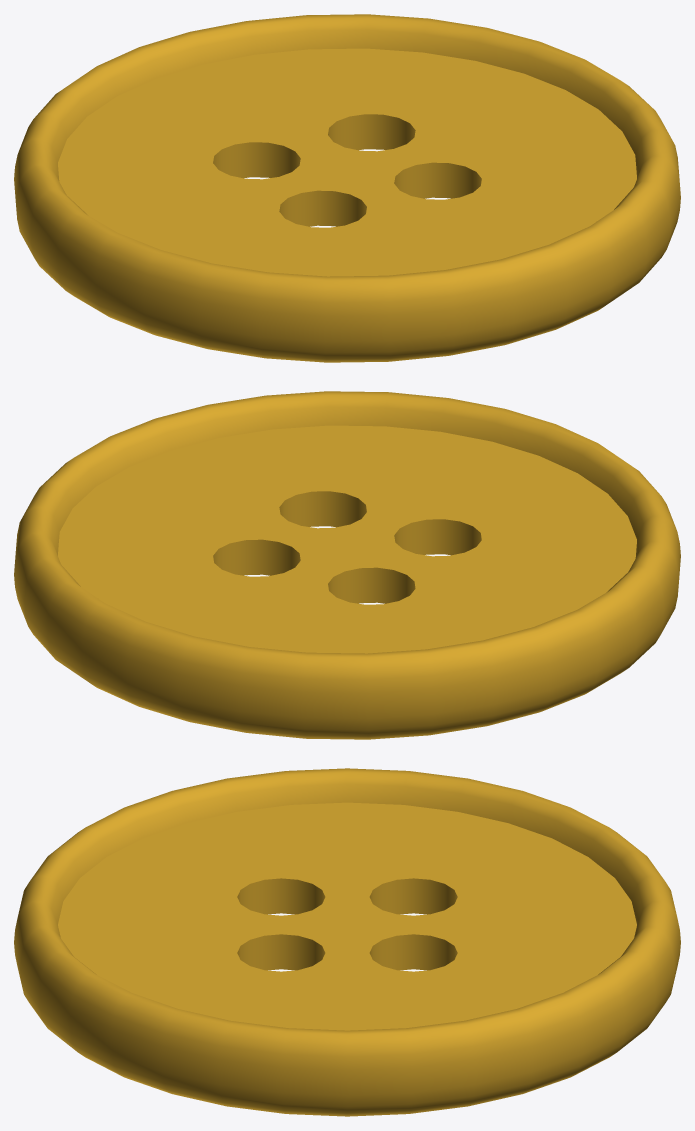
Rendered from ClothesButton.fbx.
The picture shows the model from 3 angles, top to bottom: view 1: azimuth 30°, elevation 25°; view 2: azimuth 150°, elevation 25°; view 3: azimuth 270°, elevation 25°; orthographic projection.
Visible parts, largest first — view 1: Button; view 2: Button; view 3: Button.
Boxes of the visible parts, x1,y1,x2,y2 form: Button: (14,14,680,362); Button: (14,391,680,739); Button: (14,768,680,1116).
Size of the model in its own units: 2.42 by 0.3263 by 2.42.
